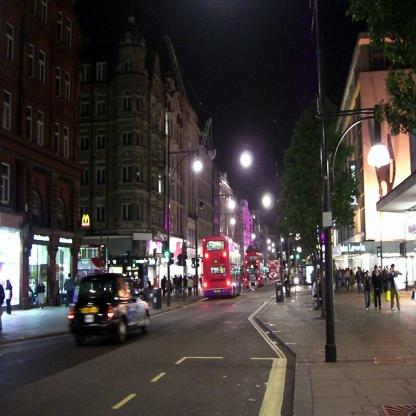Car: (67, 267, 147, 341)
